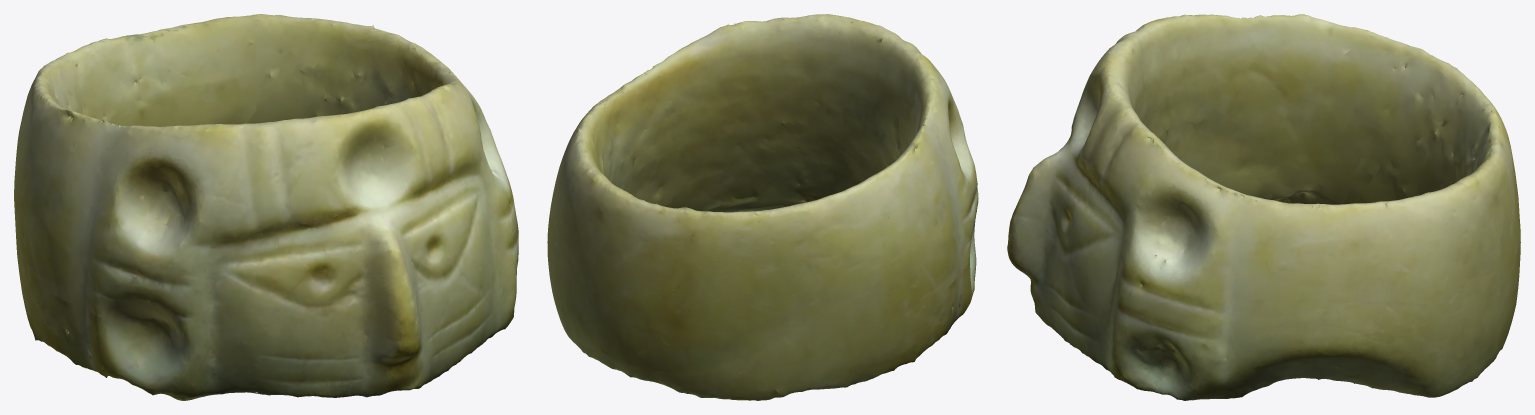
The picture shows the model from 3 angles, left to right: view 1: azimuth 30°, elevation 25°; view 2: azimuth 150°, elevation 25°; view 3: azimuth 270°, elevation 25°; orthographic projection. The views are drawn at different scales.
Parts seen in each view (by area): view 1: Mesh_0.001; view 2: Mesh_0.001; view 3: Mesh_0.001.
Part boxes in pixels (bbox=[...]): Mesh_0.001: bbox=[14, 14, 518, 400]; Mesh_0.001: bbox=[547, 14, 978, 400]; Mesh_0.001: bbox=[1007, 14, 1520, 400].
Size of the model in its own units: 0.1544 by 0.0984 by 0.1722.
1 material, 1 textured.
